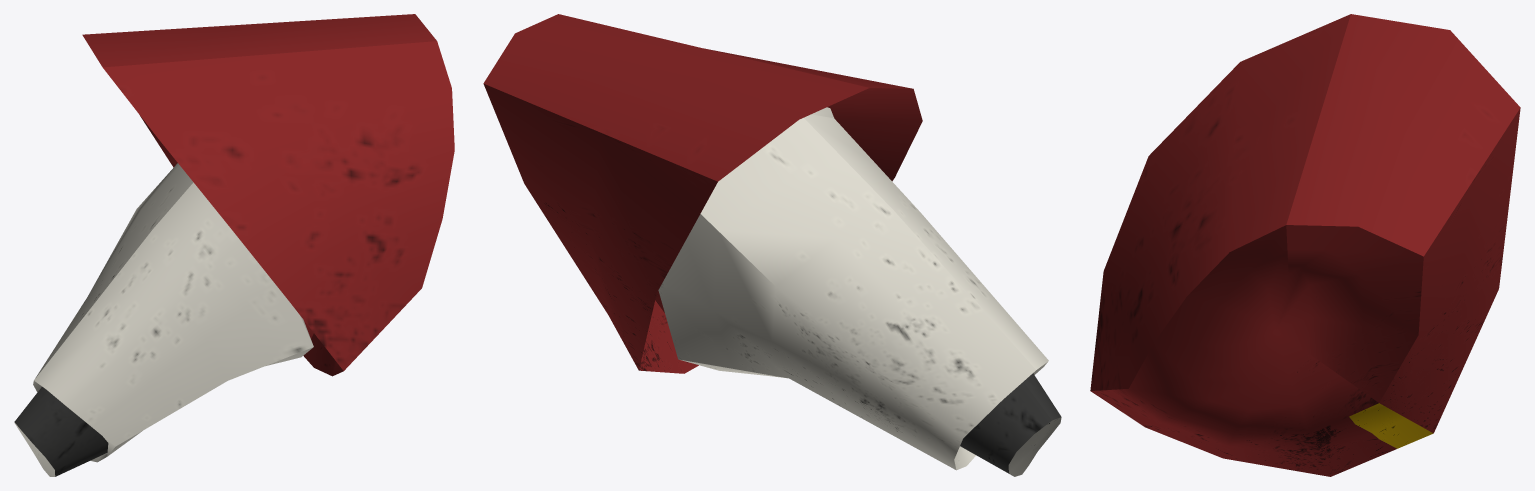
Rendered from Mech_1_Rshoulder.fbx.
The picture shows the model from 3 angles, left to right: view 1: azimuth 30°, elevation 25°; view 2: azimuth 150°, elevation 25°; view 3: azimuth 270°, elevation 25°; orthographic projection. The views are drawn at different scales.
Visible parts, largest first — view 1: r.shoulder; view 2: r.shoulder; view 3: r.shoulder.
Boxes of the visible parts, bbox=[...] form: r.shoulder: bbox=[14, 14, 454, 476]; r.shoulder: bbox=[483, 14, 1061, 476]; r.shoulder: bbox=[1090, 14, 1520, 476].
Size of the model in its own units: 1.15 by 0.8833 by 0.8199.
